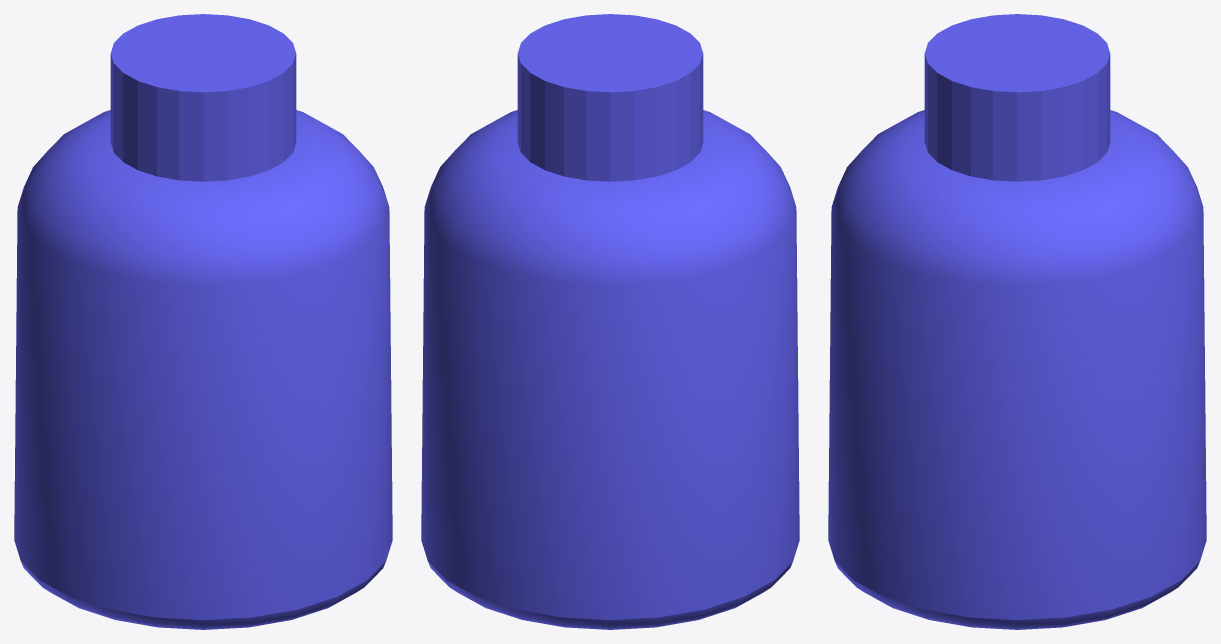
3 renders of one model, left to right at view 1: azimuth 30°, elevation 25°; view 2: azimuth 150°, elevation 25°; view 3: azimuth 270°, elevation 25°, orthographic.
Parts seen in each view (by area): view 1: mesh1_mesh1-geometry; view 2: mesh1_mesh1-geometry; view 3: mesh1_mesh1-geometry.
Part boxes in pixels (box(x1,y1,x2,y2)): mesh1_mesh1-geometry: box(14, 14, 392, 629); mesh1_mesh1-geometry: box(421, 14, 799, 629); mesh1_mesh1-geometry: box(828, 14, 1206, 629).
Size of the model in its own units: 0.4836 by 0.7296 by 0.4836.
